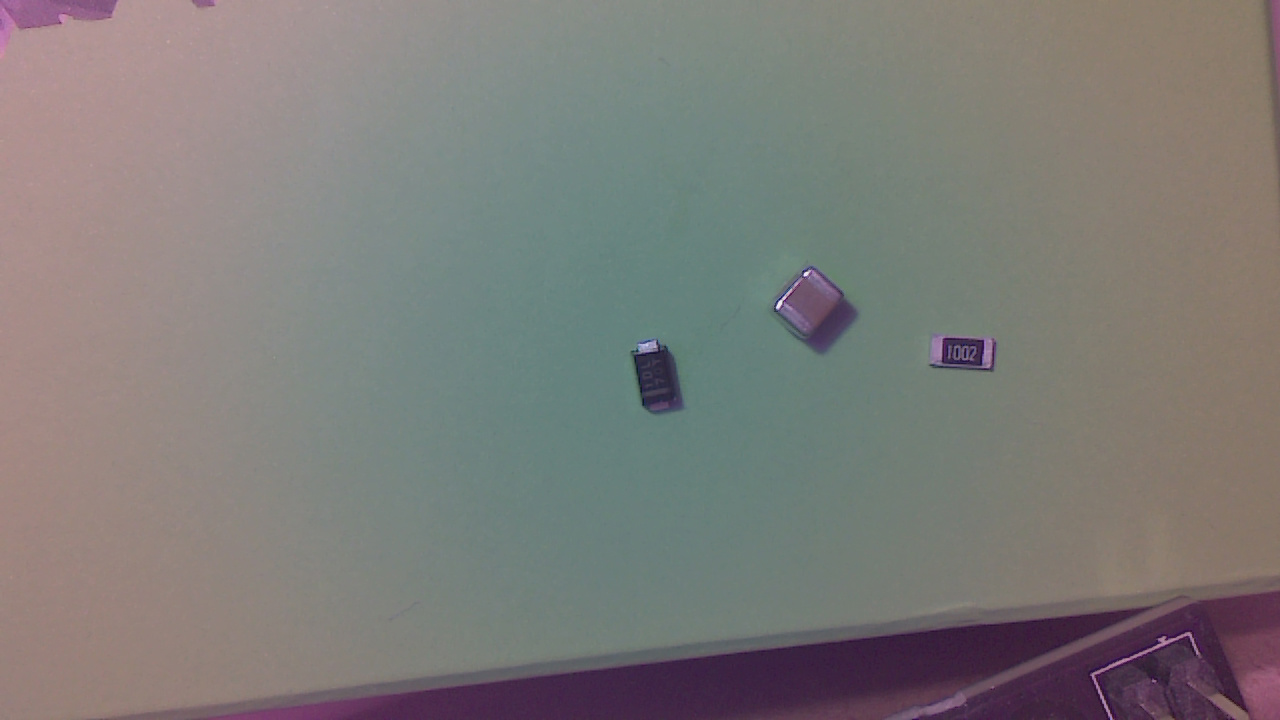Condensator: (775, 274, 849, 342)
Diode: (636, 341, 680, 417)
Resistor: (931, 339, 1003, 381)
